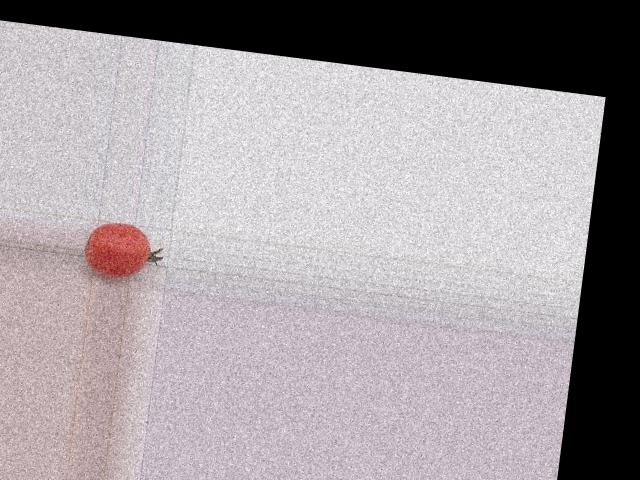tomato: (82, 218, 153, 280)
